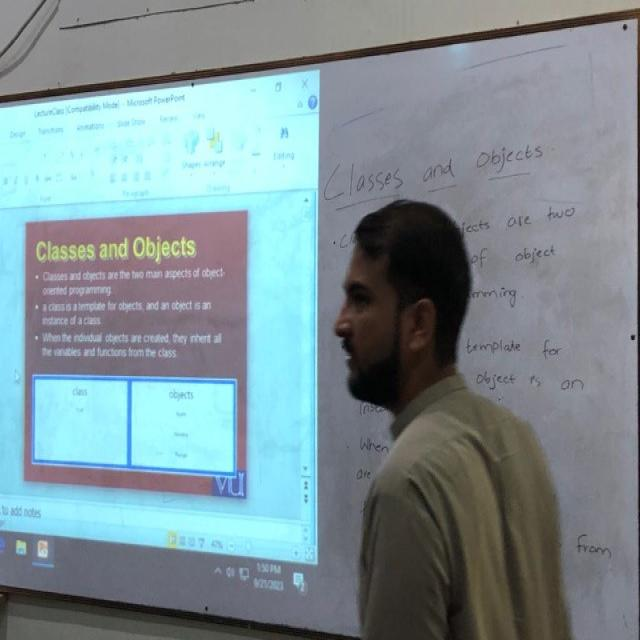Instructor: (320, 191, 561, 640)
Slide: (0, 70, 322, 604)
White-board: (0, 16, 640, 640)
